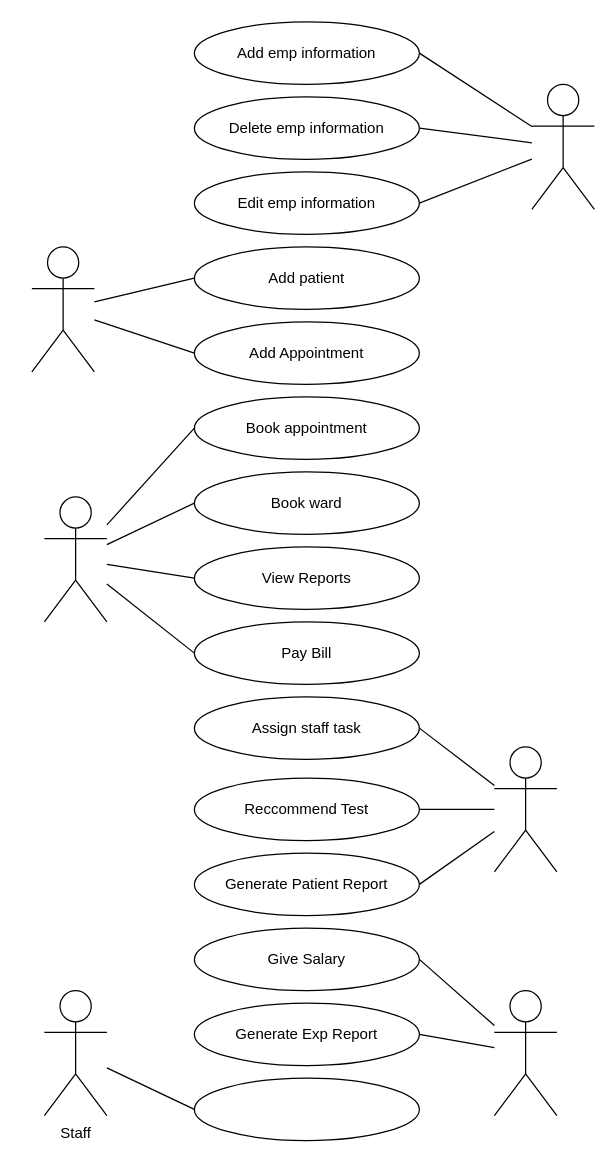
This 616x1164 diagram has some shape labels left out. The shapes that lost their labels are listed below. From the top down, each one's centre as x and y in pixels, then its label:
At point 562,146: "Admin".
At point 62,309: "Receptionist".
At point 75,559: "Patient".
At point 525,809: "Doctor".
At point 525,1052: "Payroll".
At point 306,1109: "Perform assigned task".
